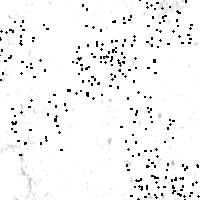pitted_surface: (49, 1, 198, 195), (2, 23, 57, 198), (76, 4, 134, 64), (67, 40, 127, 97), (11, 94, 65, 154), (0, 20, 46, 79), (120, 107, 172, 159), (130, 0, 190, 43), (117, 39, 157, 96), (137, 162, 197, 200), (126, 164, 184, 200)
